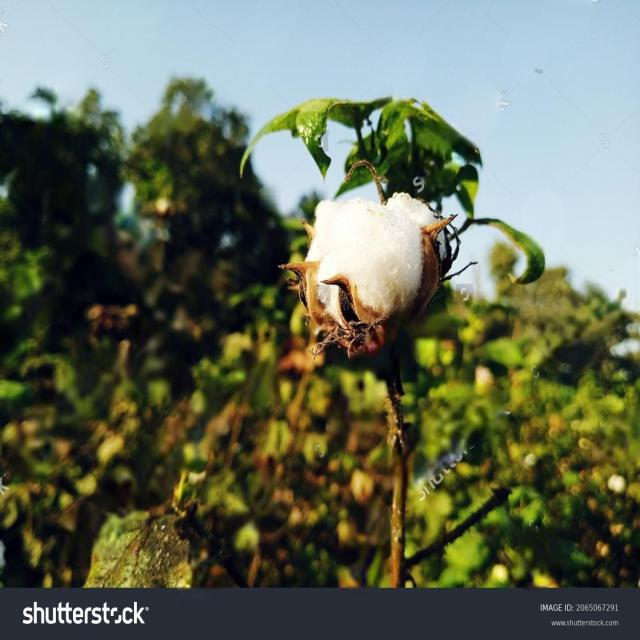Leaf: (267, 144, 493, 392)
